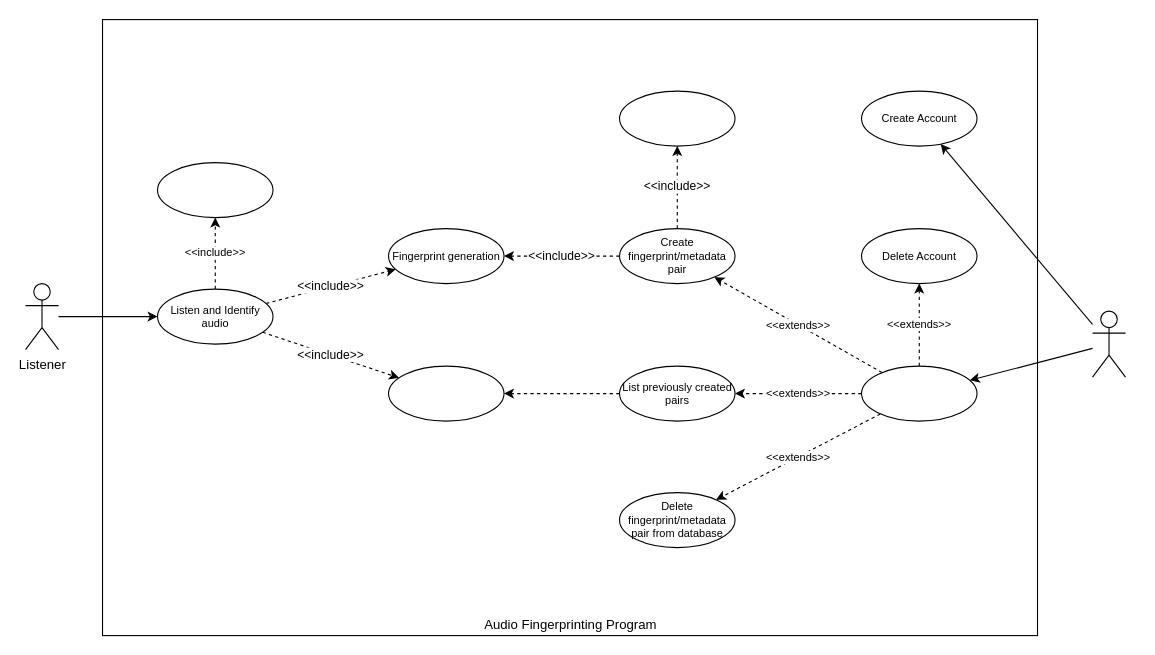
Image size: 1155x655. Some labels were removed from this diagram. The shapes that lost their labels are listed below. From the top down, each one's centre as x and y in pixels, then its label:
[676,118]: Save fingerprint/metadata pair to database
[214,189]: Record audio
[1108,343]: Uploader
[445,393]: Retrieve fingerprint/metadata pair from database
[918,393]: Login
